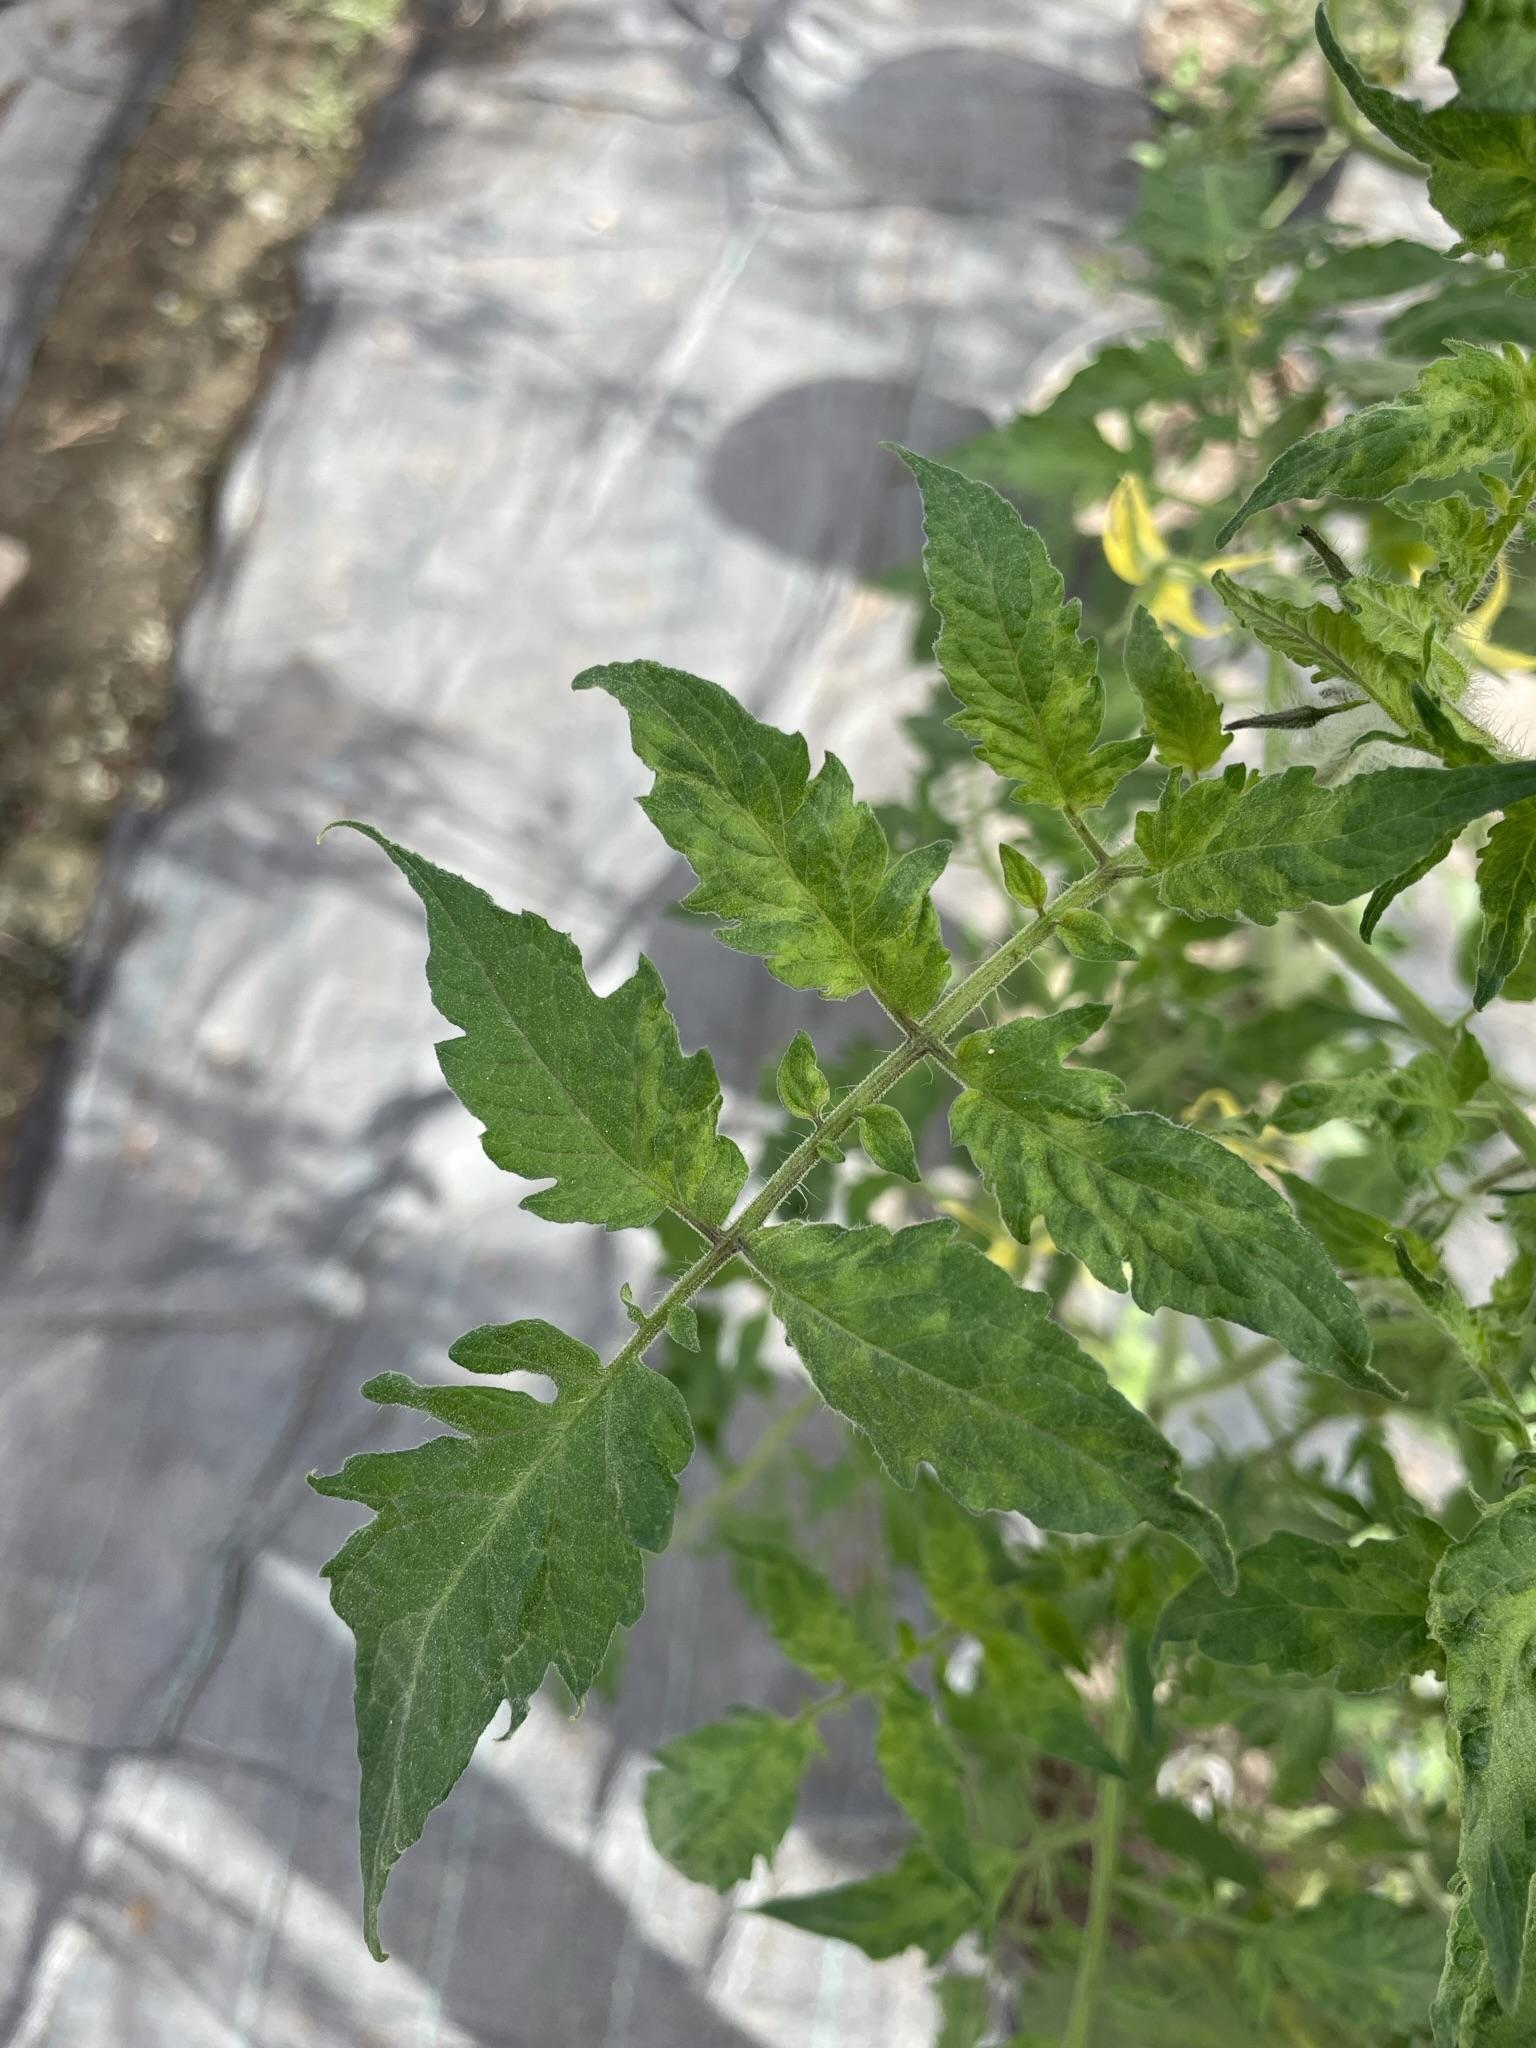Hoja rugoso: (311, 1321, 692, 1951), (749, 1221, 1233, 1580), (952, 1008, 1388, 1392), (357, 819, 750, 1237), (576, 660, 952, 1021), (900, 452, 1149, 860), (1136, 764, 1533, 924)
Pedunculo rugoso: (620, 848, 1144, 1359)
